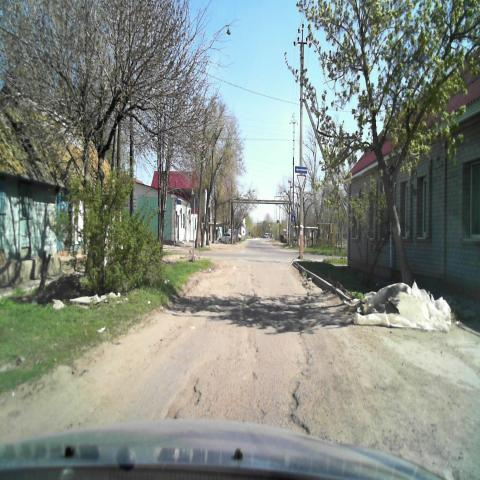5_7_2: (295, 165, 308, 175)
